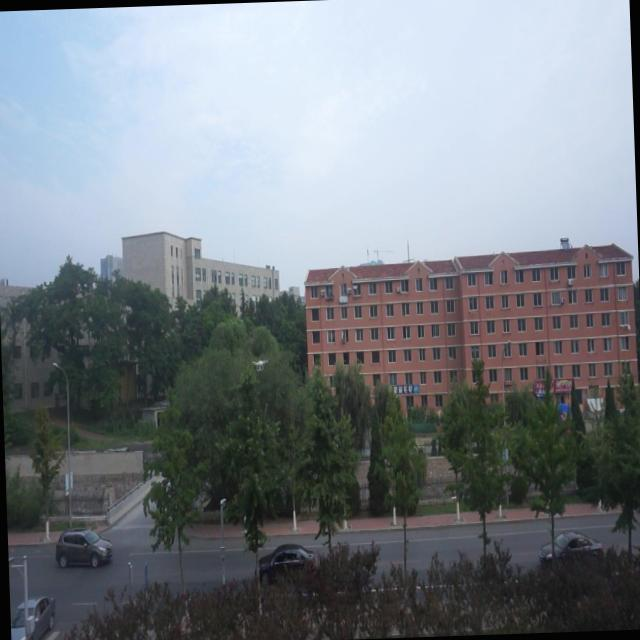drone: (251, 354, 270, 374)
